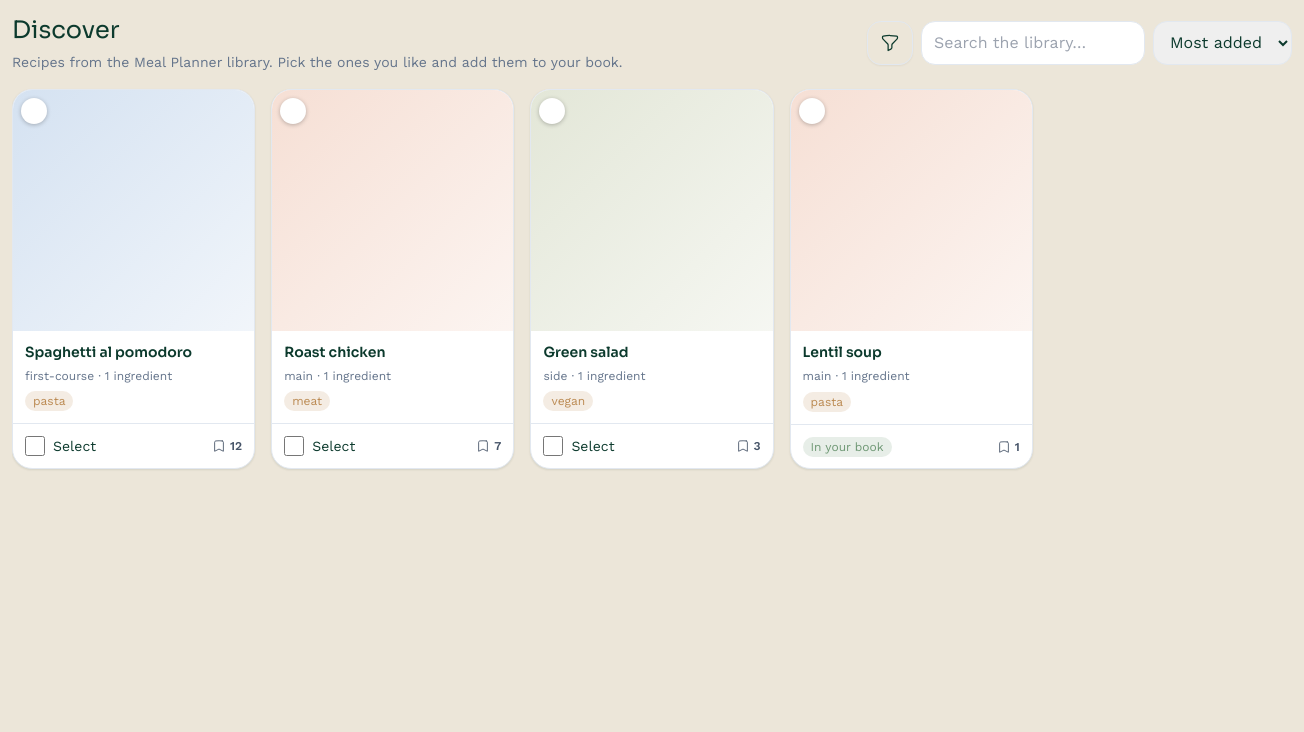
Test: unticking a card takes it back out of the count
The image size is (1304, 732).
Expected: the text "Spaghetti al pomodoro" is shown, [25, 343, 192, 361]
Click the checkbox named "Select Green salad": (553, 446) [543, 436, 563, 456]
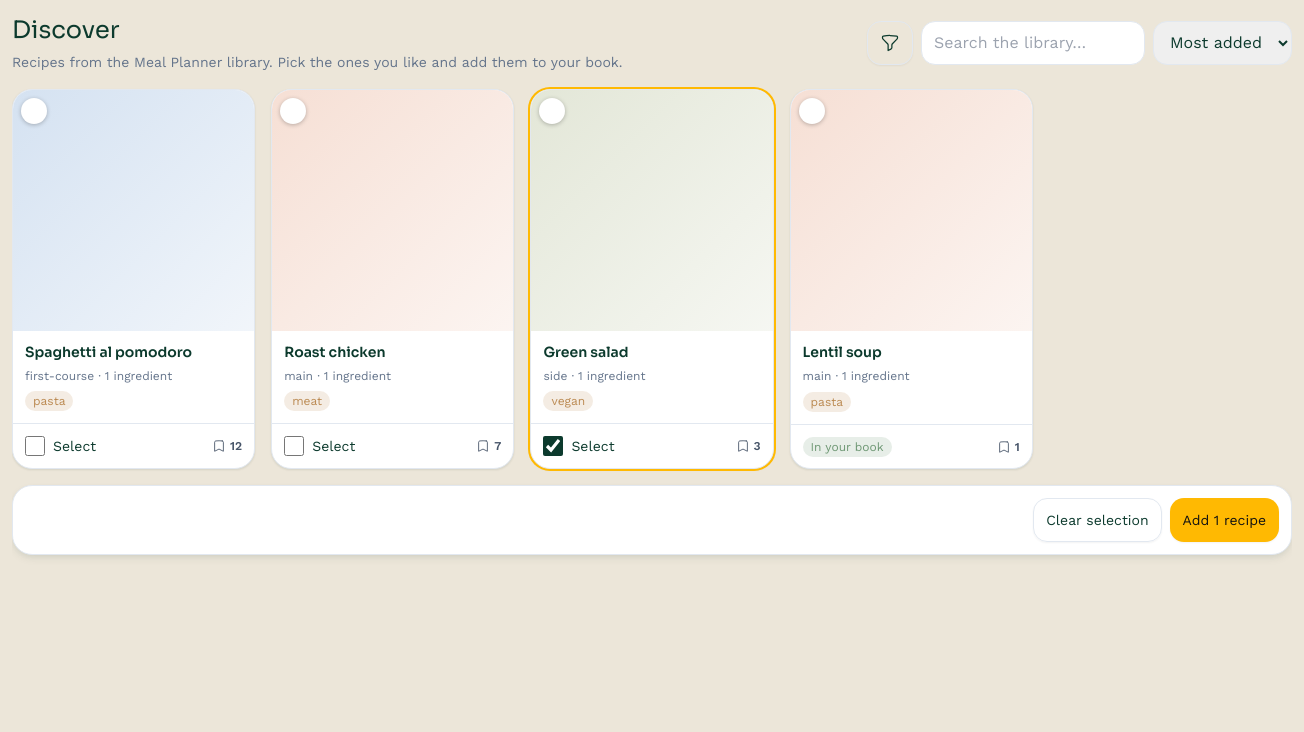
Click the checkbox named "Select Green salad": (553, 446) [543, 436, 563, 456]
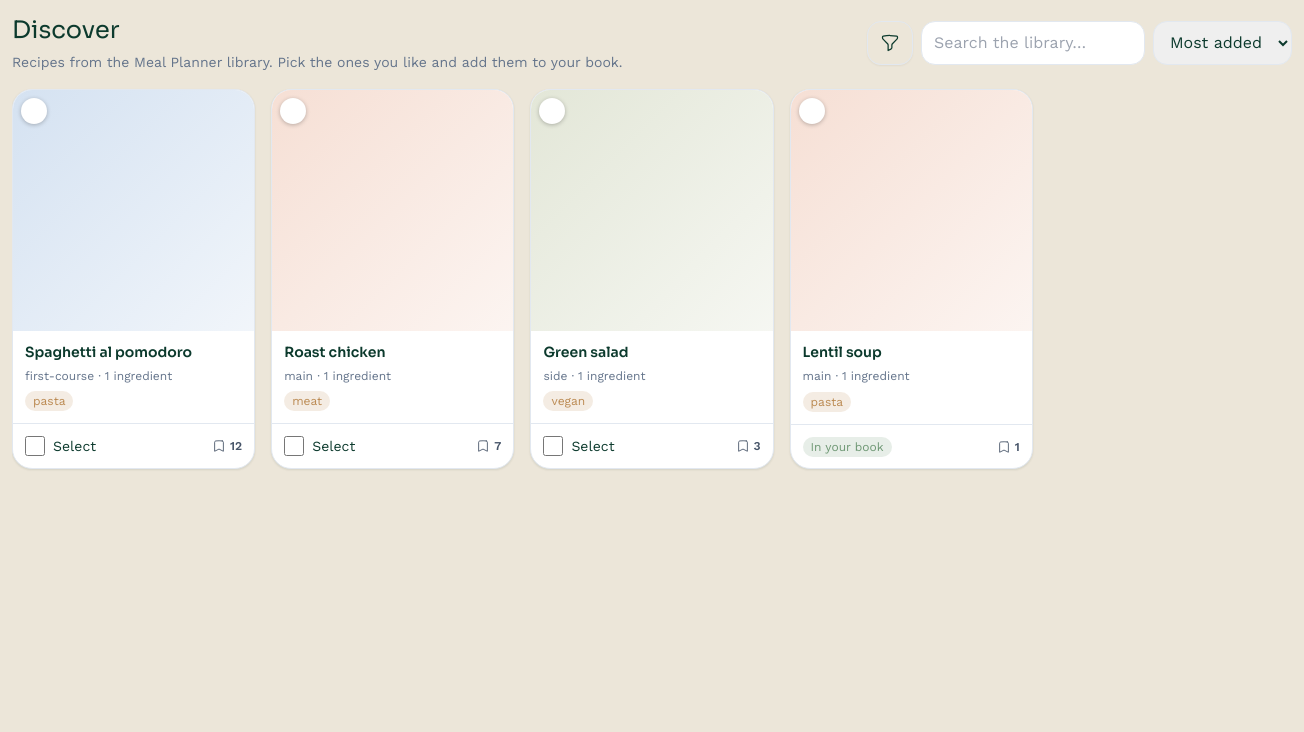
Expected: the button "Add 1 recipe" is gone
